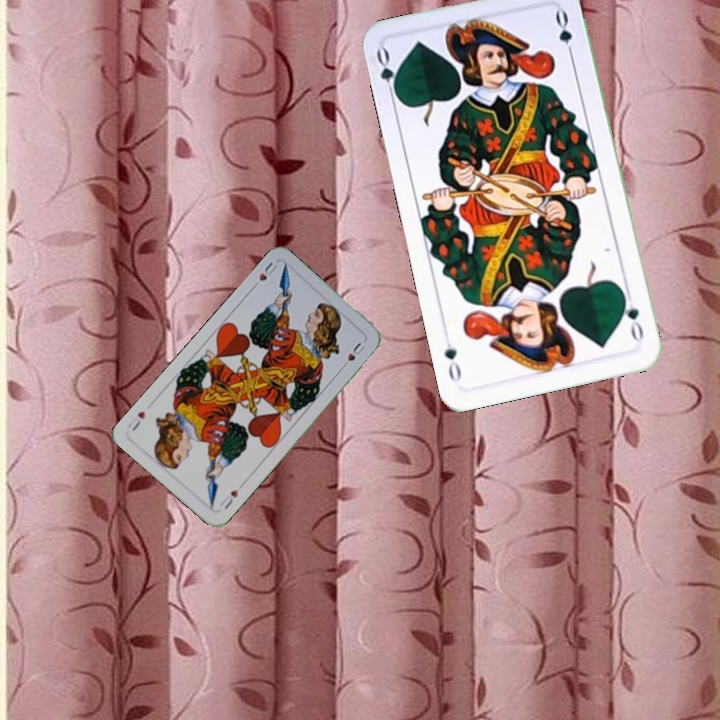GO: (372, 44, 402, 104), (618, 287, 646, 346)
HU: (248, 257, 280, 292), (215, 486, 241, 512)
